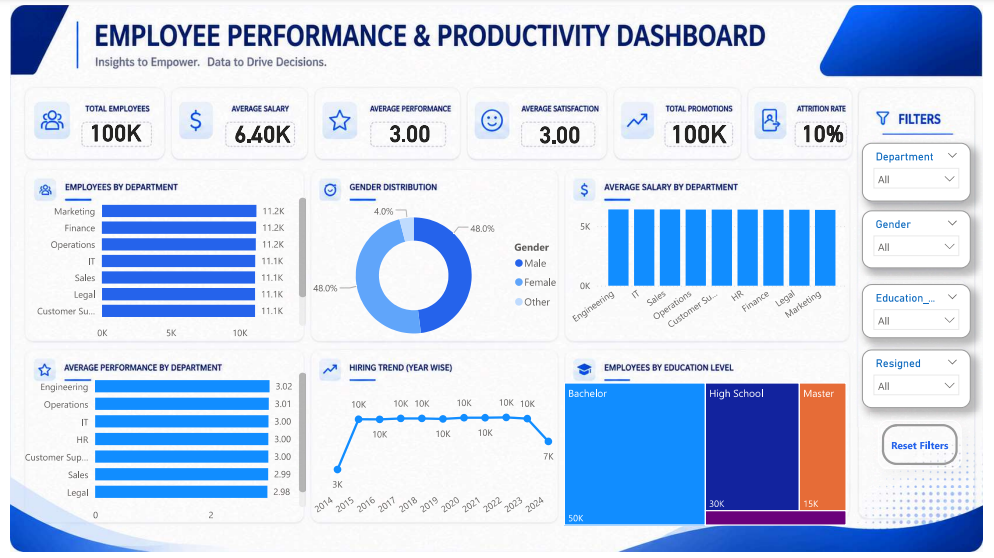

Layout of this report page (visuals, bound fields, positions):
{"tool":"powerbi","page":{"name":"Page 1","canvas":[1280,720],"ordinal":0},"visuals":[{"type":"card","fields":{"Values":["Measures (2).Total Employees"]},"box":[66.7,126.7,141.7,76.7],"z":0},{"type":"card","fields":{"Values":["Measures (2).Average Salary"]},"box":[254,137,154,59],"z":1000},{"type":"card","fields":{"Values":["Measures (2).Average Performance"]},"box":[432.2,114.4,186.7,103.3],"z":2000},{"type":"card","fields":{"Values":["Measures (2).Average Satisfaction"]},"box":[629.2,93,187.5,148.8],"z":3000},{"type":"card","fields":{"Values":["Measures (2).Total Promotions"]},"box":[827.5,91.2,155,150],"z":4000},{"type":"card","fields":{"Values":["Measures (2).Attrition Rate"]},"box":[995,125,148.3,81.7],"z":5000},{"type":"clusteredBarChart","fields":{"Category":["employee.Department"],"Y":["CountNonNull(employee.Employee_ID)"]},"box":[11.8,240.2,381.3,208.3],"z":5001},{"type":"donutChart","fields":{"Category":["employee.Gender"],"Y":["CountNonNull(employee.Employee_ID)"]},"box":[393.1,240.2,341,228.5],"z":5002},{"type":"clusteredColumnChart","fields":{"Category":["employee.Department"],"Y":["Avg(employee.Monthly_Salary)"]},"box":[723.3,228.8,381.8,208.6],"z":5003},{"type":"clusteredBarChart","fields":{"Category":["employee.Department"],"Y":["Avg(employee.Performance_Score)"]},"box":[0,469.5,393.1,218],"z":5004},{"type":"lineChart","fields":{"Category":["employee.Hire_Date.Variation.Date Hierarchy.Year","employee.Hire_Date.Variation.Date Hierarchy.Quarter","employee.Hire_Date.Variation.Date Hierarchy.Month","employee.Hire_Date.Variation.Date Hierarchy.Day"],"Y":["CountNonNull(employee.Employee_ID)"]},"box":[392.5,480.2,331.5,208.1],"z":5005},{"type":"treemap","fields":{"Group":["employee.Education_Level"],"Values":["Measures (2).Total Employees"]},"box":[723.7,491.2,381.2,196.8],"z":5006},{"type":"slicer","fields":{"Values":["employee.Department"]},"box":[1120.9,179.9,142.7,77.3],"z":5007},{"type":"slicer","fields":{"Values":["employee.Gender"]},"box":[1120.9,269.1,142.7,75.8],"z":5008},{"type":"slicer","fields":{"Values":["employee.Education_Level"]},"box":[1120.9,365.7,142.7,71.4],"z":5009},{"type":"slicer","fields":{"Values":["employee.Resigned"]},"box":[1120.9,451.9,142.7,77.3],"z":5010},{"type":"actionButton","box":[1142.1,545.5,110,63.5],"z":5011}]}

Visuals, with their boxes in screenshot pixels (x1, y1, x2, y2), scaled from the page's 1280x720 canvas onto the 994x558 screenshot:
card - Measures (2).Total Employees: (x1=52, y1=98, x2=162, y2=158)
card - Measures (2).Average Salary: (x1=197, y1=106, x2=317, y2=152)
card - Measures (2).Average Performance: (x1=336, y1=89, x2=481, y2=169)
card - Measures (2).Average Satisfaction: (x1=489, y1=72, x2=634, y2=187)
card - Measures (2).Total Promotions: (x1=643, y1=71, x2=763, y2=187)
card - Measures (2).Attrition Rate: (x1=773, y1=97, x2=888, y2=160)
clusteredBarChart - employee.Department x CountNonNull(employee.Employee_ID): (x1=9, y1=186, x2=305, y2=348)
donutChart - employee.Gender x CountNonNull(employee.Employee_ID): (x1=305, y1=186, x2=570, y2=363)
clusteredColumnChart - employee.Department x Avg(employee.Monthly_Salary): (x1=562, y1=177, x2=858, y2=339)
clusteredBarChart - employee.Department x Avg(employee.Performance_Score): (x1=0, y1=364, x2=305, y2=533)
lineChart - employee.Hire_Date.Variation.Date Hierarchy.Year x employee.Hire_Date.Variation.Date Hierarchy.Quarter: (x1=305, y1=372, x2=562, y2=533)
treemap - employee.Education_Level x Measures (2).Total Employees: (x1=562, y1=381, x2=858, y2=533)
slicer - employee.Department: (x1=870, y1=139, x2=981, y2=199)
slicer - employee.Gender: (x1=870, y1=209, x2=981, y2=267)
slicer - employee.Education_Level: (x1=870, y1=283, x2=981, y2=339)
slicer - employee.Resigned: (x1=870, y1=350, x2=981, y2=410)
actionButton: (x1=887, y1=423, x2=972, y2=472)
